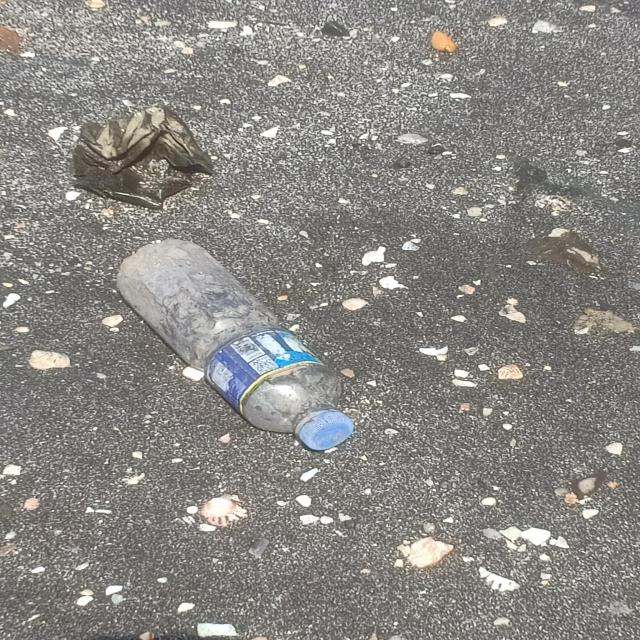plastic_waste: (116, 240, 358, 453)
